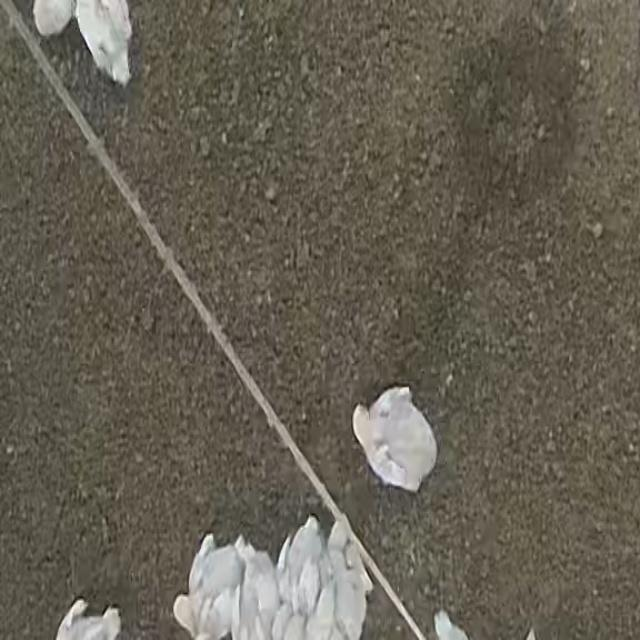chicken: (352, 379, 442, 498)
